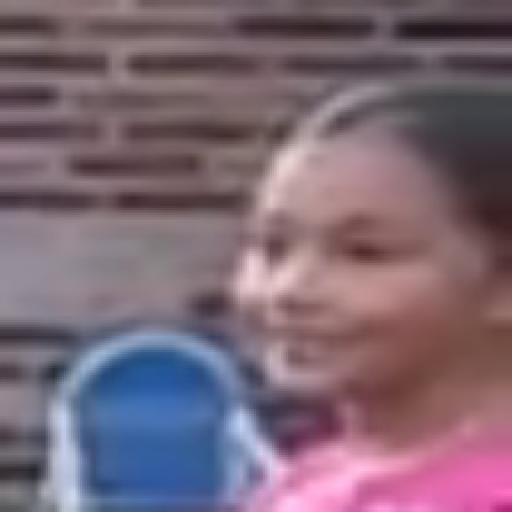Autism: (216, 84, 512, 458)
